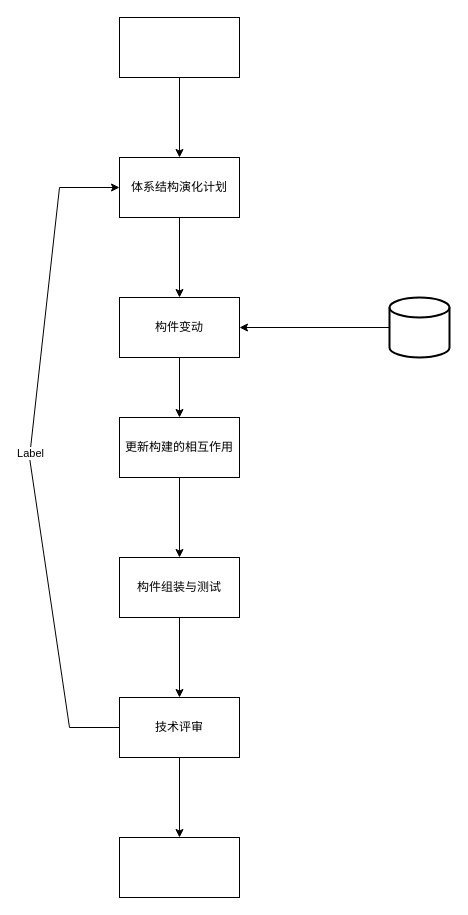
The diagram is 468 pixels wide and 915 high, and some of its shapes have lost their labels. The shapes that lost their labels are listed below. From the top down, each one's centre as x and y in pixels, then its label:
At point 179,47: "需求变化归类".
At point 419,327: "构件库".
At point 179,867: "演化后的体系结构".
